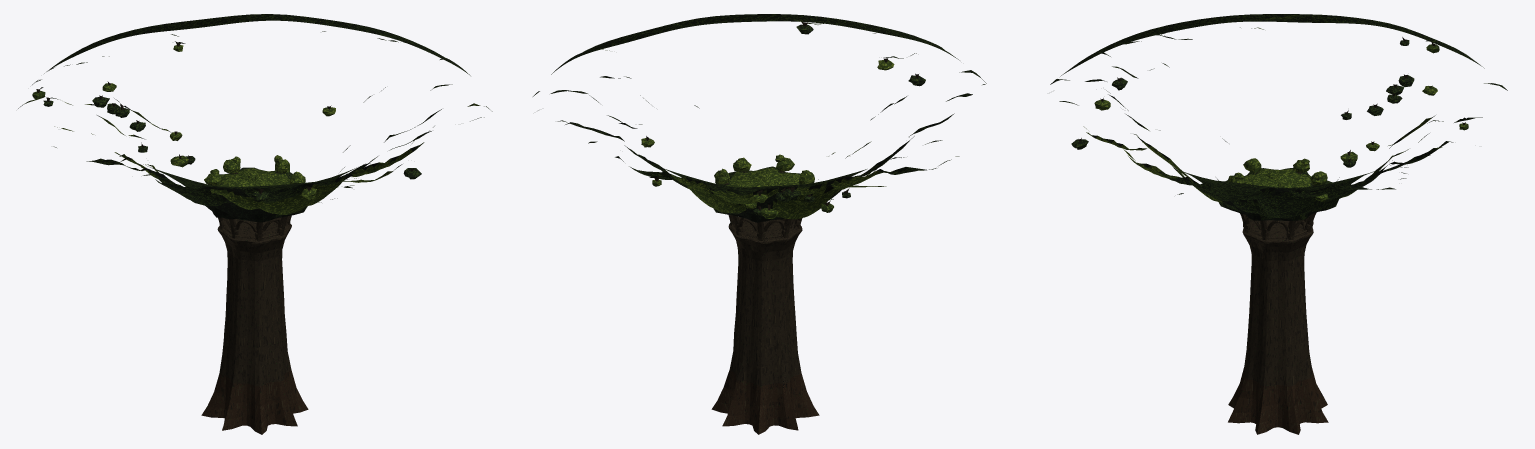
File: forest_tree.glb
The picture shows the model from 3 angles, left to right: view 1: azimuth 30°, elevation 25°; view 2: azimuth 150°, elevation 25°; view 3: azimuth 270°, elevation 25°; orthographic projection.
Visible parts, largest first — view 1: ForestTree; view 2: ForestTree; view 3: ForestTree.
Part boxes in pixels (x1,y1,x2,y2): ForestTree: [18, 14, 492, 434]; ForestTree: [533, 14, 986, 434]; ForestTree: [1050, 14, 1507, 434].
Size of what is drawn, in the model's own units: 95.2 by 66.85 by 95.2.
Materials: 1 (1 with a texture image).
